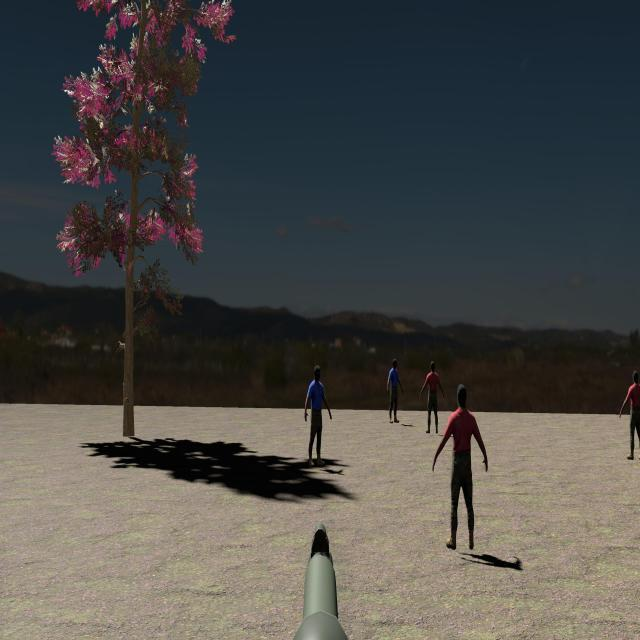Human: (433, 383, 488, 549), (305, 365, 331, 466), (421, 361, 446, 435), (620, 370, 640, 461), (387, 358, 404, 424)
